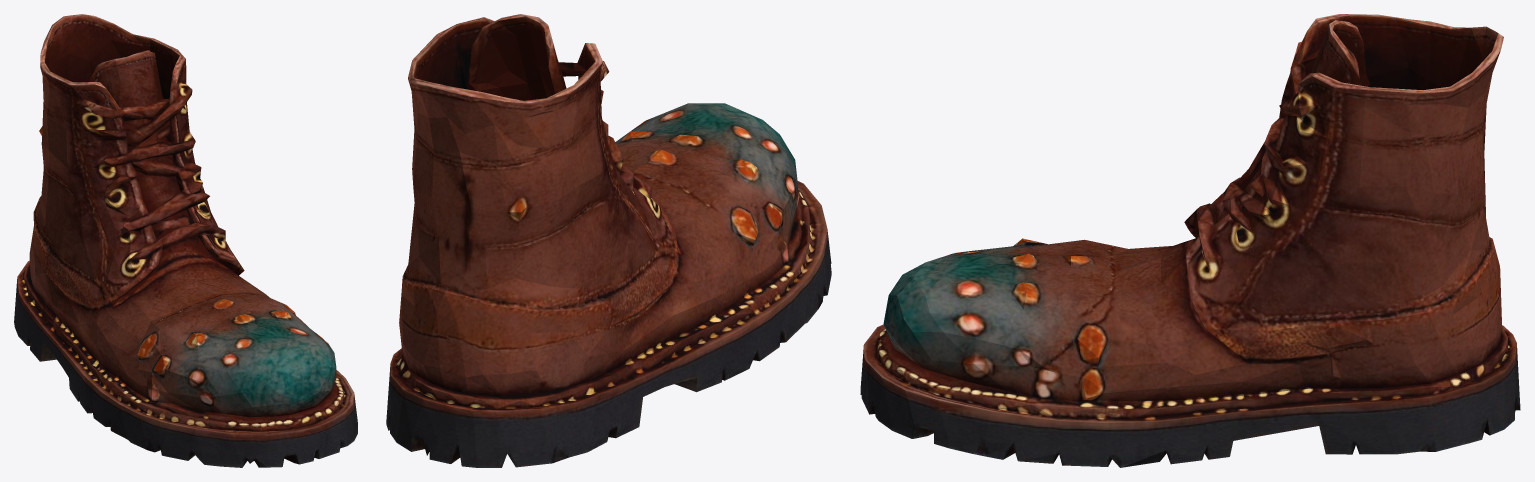
3 views of the same model, side by side, from view 1: azimuth 30°, elevation 25°; view 2: azimuth 150°, elevation 25°; view 3: azimuth 270°, elevation 25° (orthographic). The views are drawn at different scales.
Parts seen in each view (by area): view 1: geometry_0; view 2: geometry_0; view 3: geometry_0.
Boxes of the visible parts, x1,y1,x2,y2 form: geometry_0: (14, 14, 357, 467); geometry_0: (386, 14, 831, 467); geometry_0: (860, 14, 1520, 467).
Size of the model in its own units: 0.4681 by 0.6426 by 1.
Materials: 1 (1 with a texture image).
